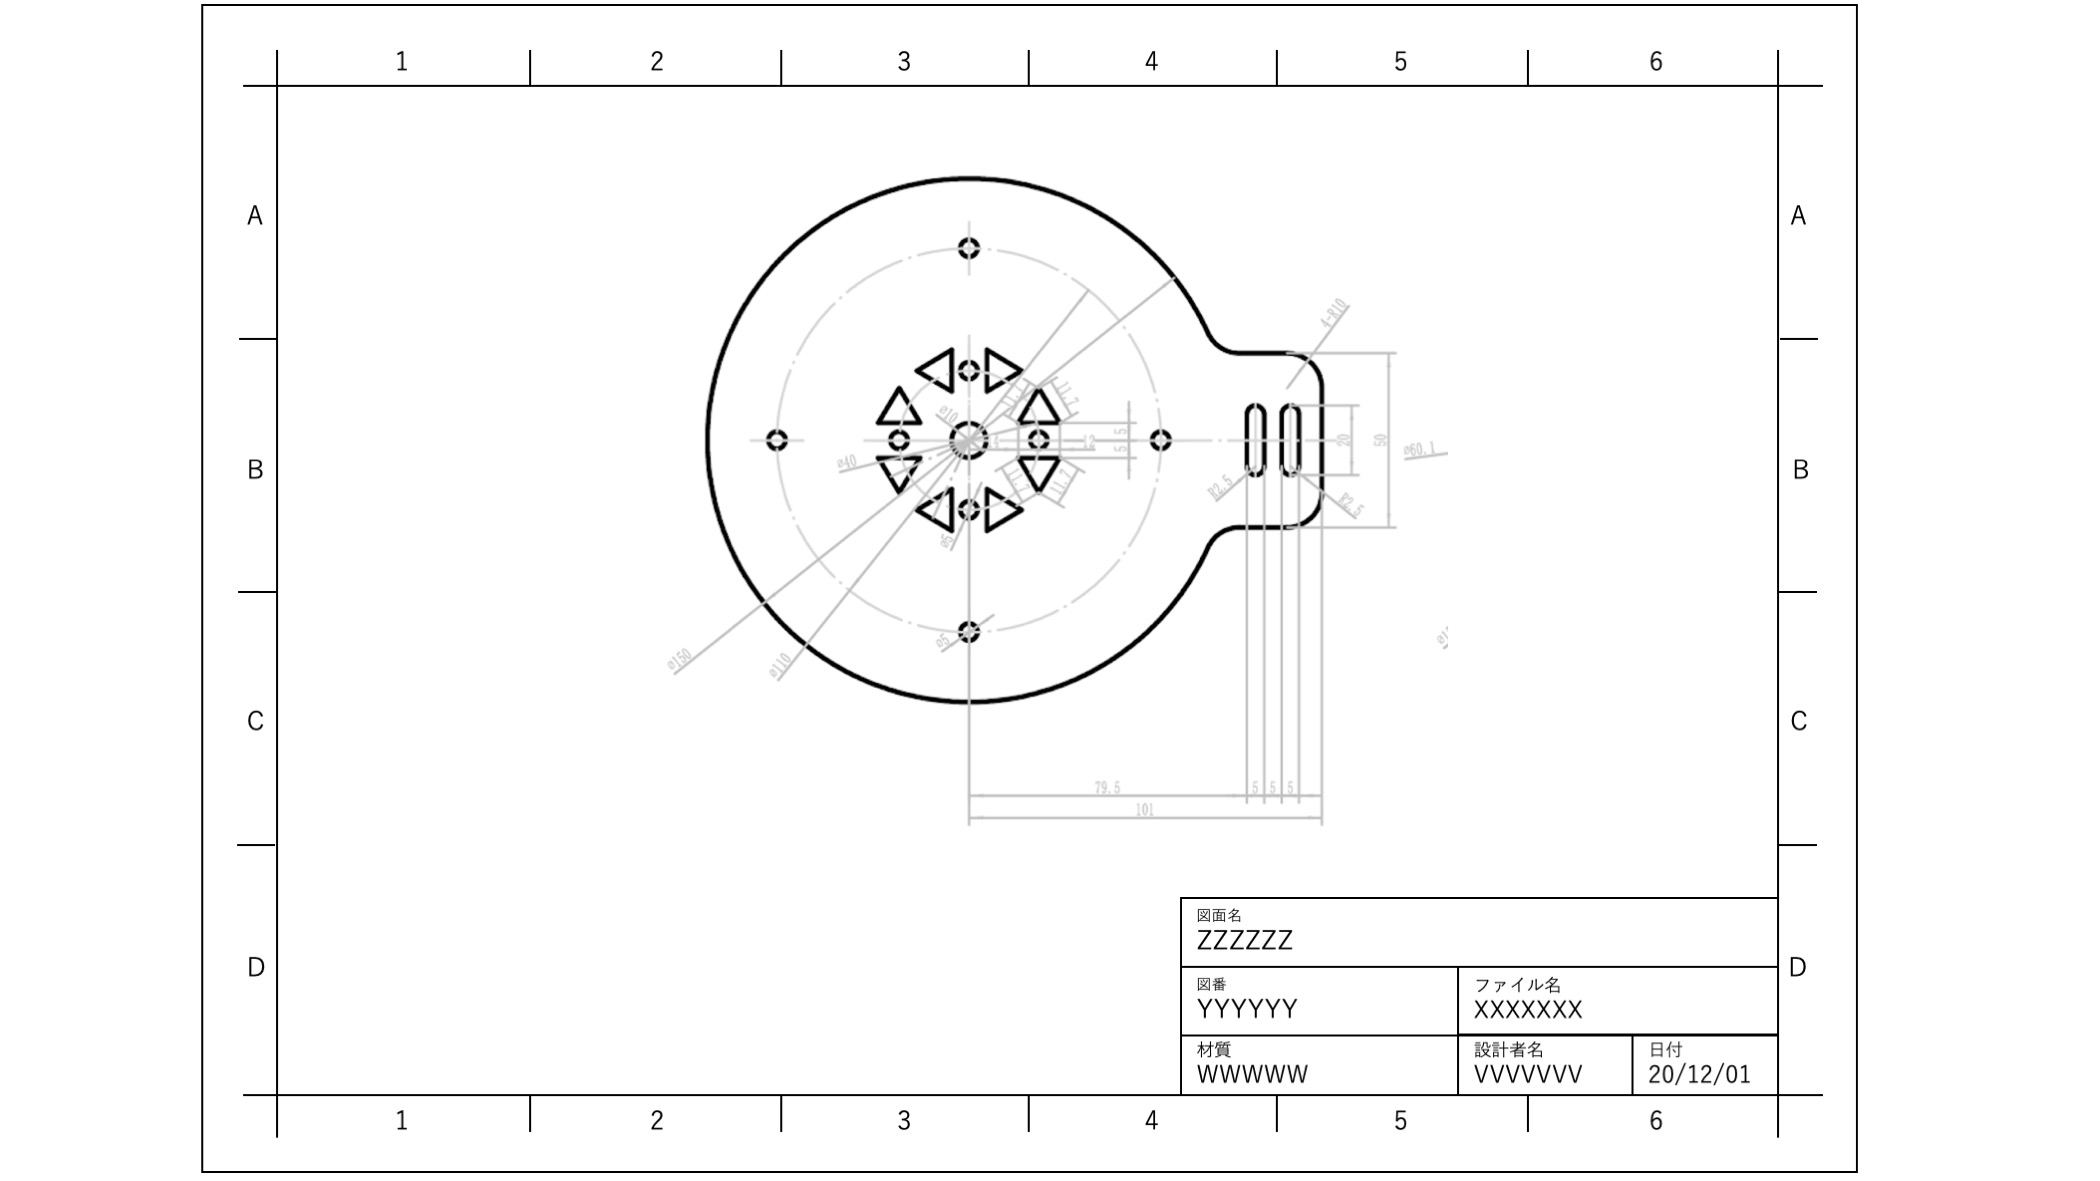circle: (946, 412, 991, 461), (762, 415, 790, 451), (878, 423, 913, 451), (956, 343, 979, 386), (952, 232, 984, 262), (1025, 425, 1057, 456), (1145, 428, 1174, 457), (956, 616, 984, 646), (953, 493, 976, 521)
round_rectangle: (1240, 385, 1266, 477), (1279, 389, 1307, 474)
triangle: (873, 378, 923, 431), (910, 490, 956, 547), (912, 345, 962, 395), (984, 337, 1025, 395), (870, 454, 923, 499), (984, 483, 1024, 536), (1014, 385, 1064, 427), (1015, 450, 1060, 493)
